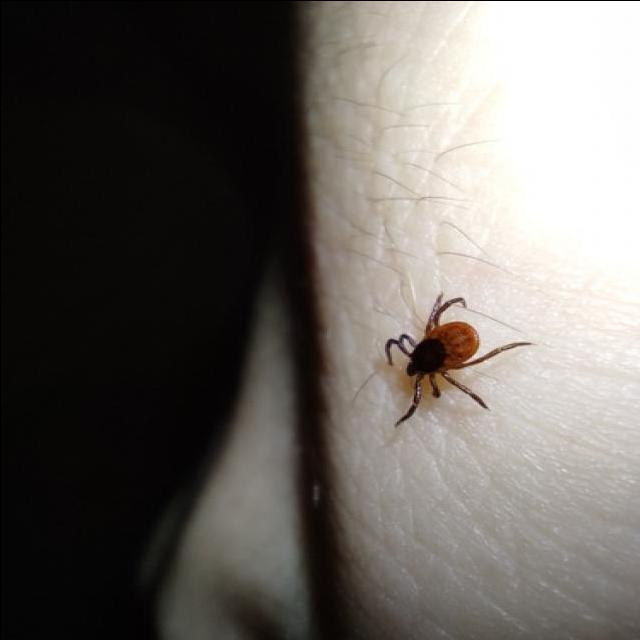Ixodes Ricinus-F: (374, 291, 532, 424)
